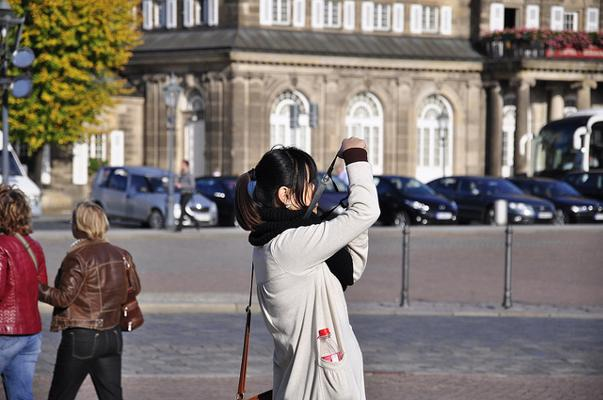person: (234, 138, 381, 400)
